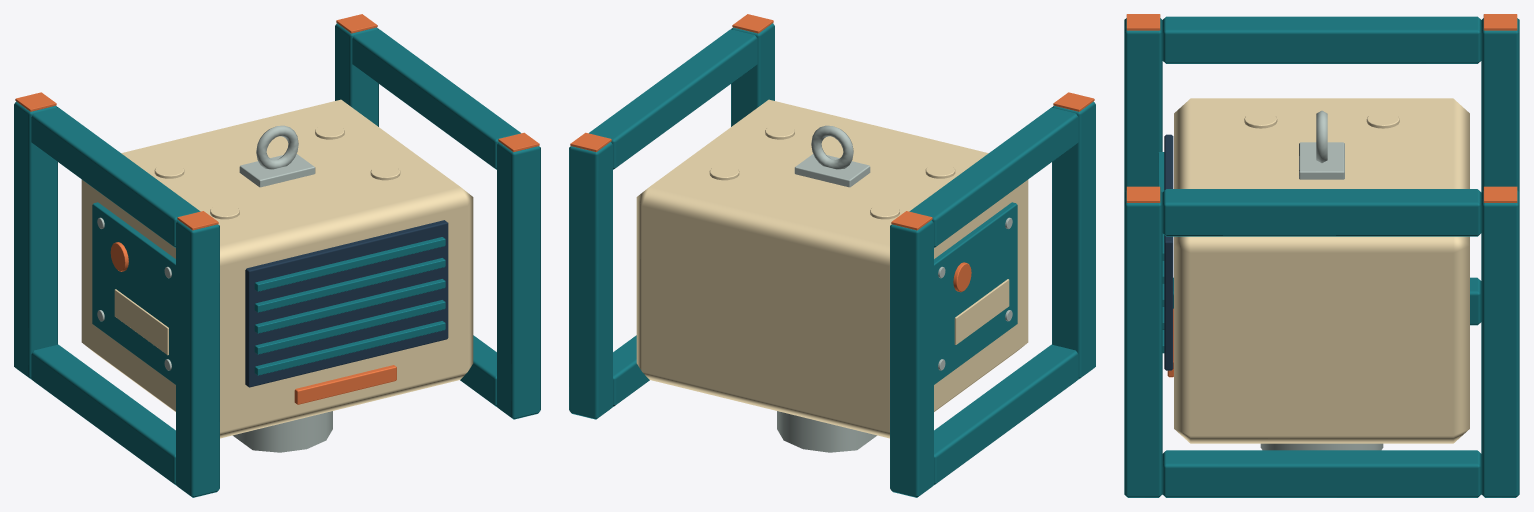
File: generator-lod-1.glb
3 renders of one model, left to right at view 1: azimuth 30°, elevation 25°; view 2: azimuth 150°, elevation 25°; view 3: azimuth 270°, elevation 25°, orthographic. The views are drawn at different scales.
Visible parts, largest first — view 1: generator_lod_1; view 2: generator_lod_1; view 3: generator_lod_1.
Part boxes in pixels (x1,y1,x2,y2): generator_lod_1: (14,14,540,497); generator_lod_1: (569,14,1095,497); generator_lod_1: (1124,14,1519,497).
Size of the model in its own units: 1.75 by 1.47 by 1.55.
